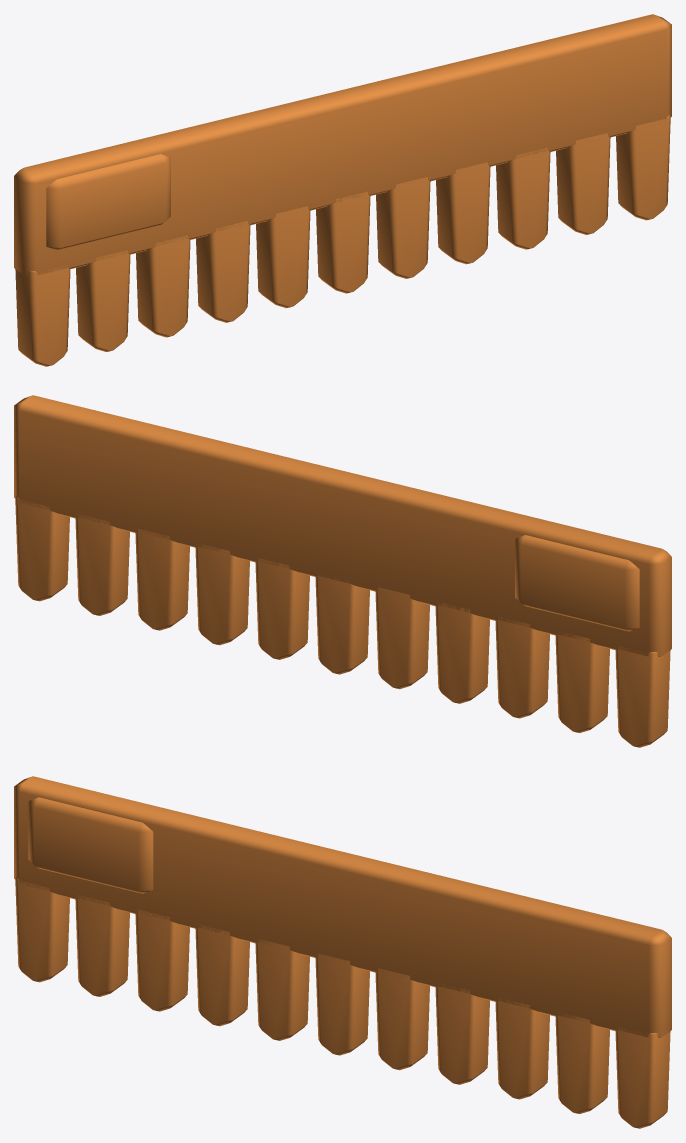
Rendered from P089_comb_rebuilt.glb.
3 renders of one model, top to bottom at view 1: azimuth 30°, elevation 25°; view 2: azimuth 150°, elevation 25°; view 3: azimuth 330°, elevation 25°, orthographic.
Visible parts, largest first — view 1: orange; view 2: orange; view 3: orange.
Part boxes in pixels (x1,y1,x2,y2): orange: (14,14,671,366); orange: (14,395,671,747); orange: (14,776,671,1128).
Bounding box in the file's own units: 0.193 × 0.055 × 0.014.
